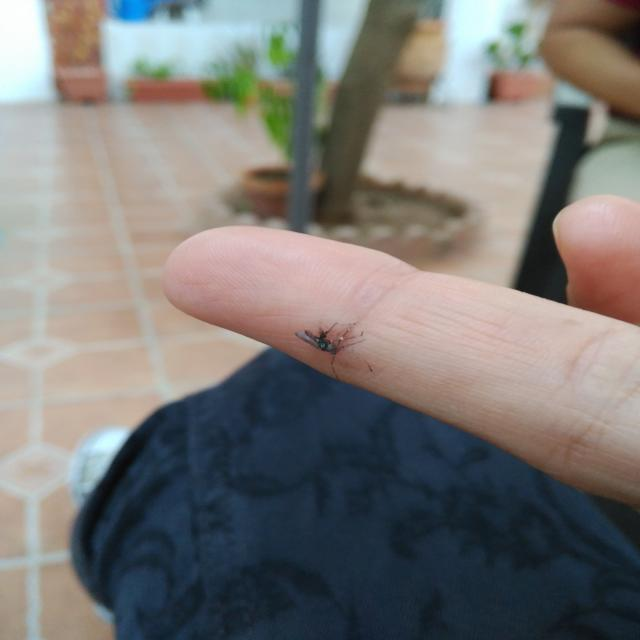albopictus: (292, 313, 368, 378)
